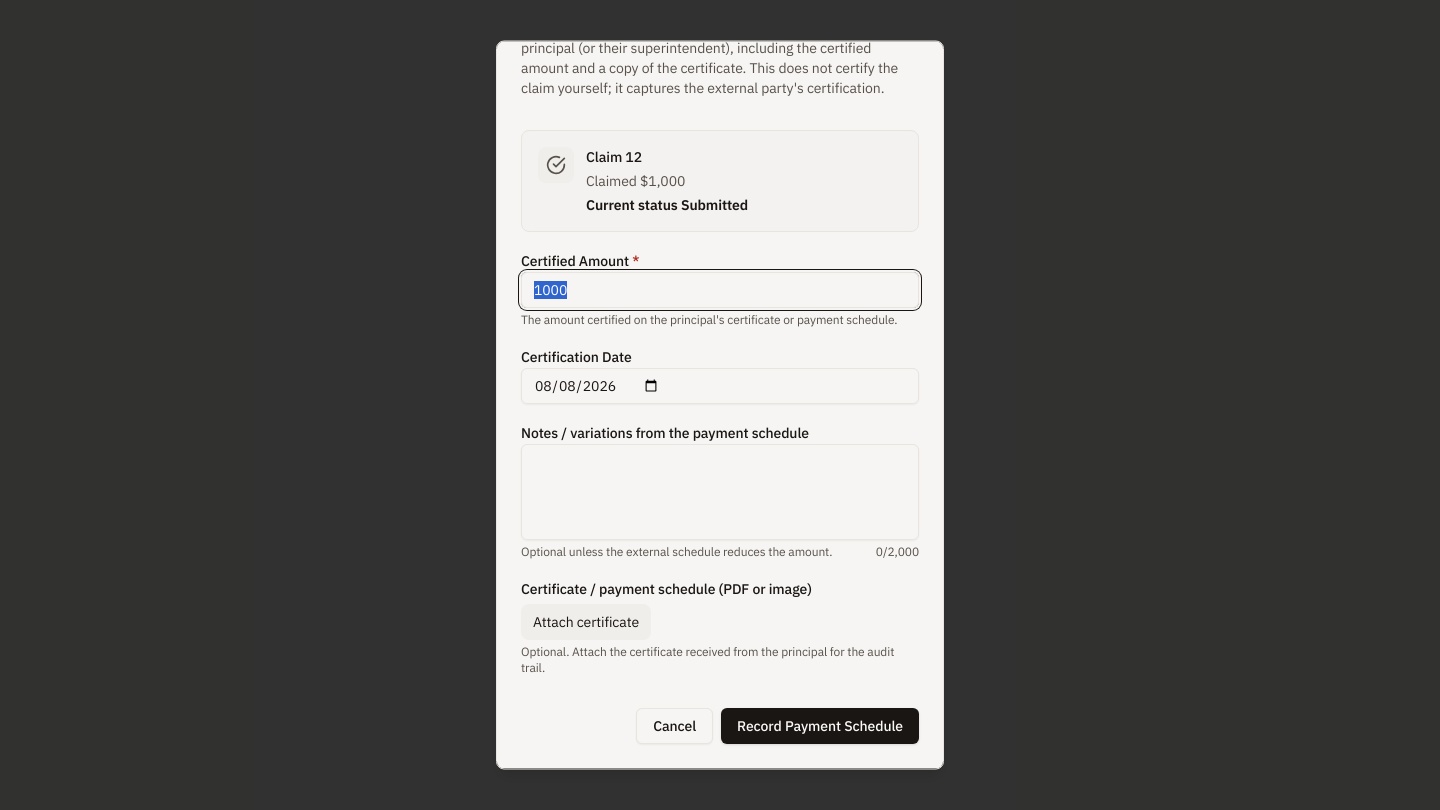
Test: RecordCertificationModal › keeps cancel disabled while certification is recording
(page scrolled)
Click the button "Record Payment Schedule": (820, 726) [721,708,919,744]
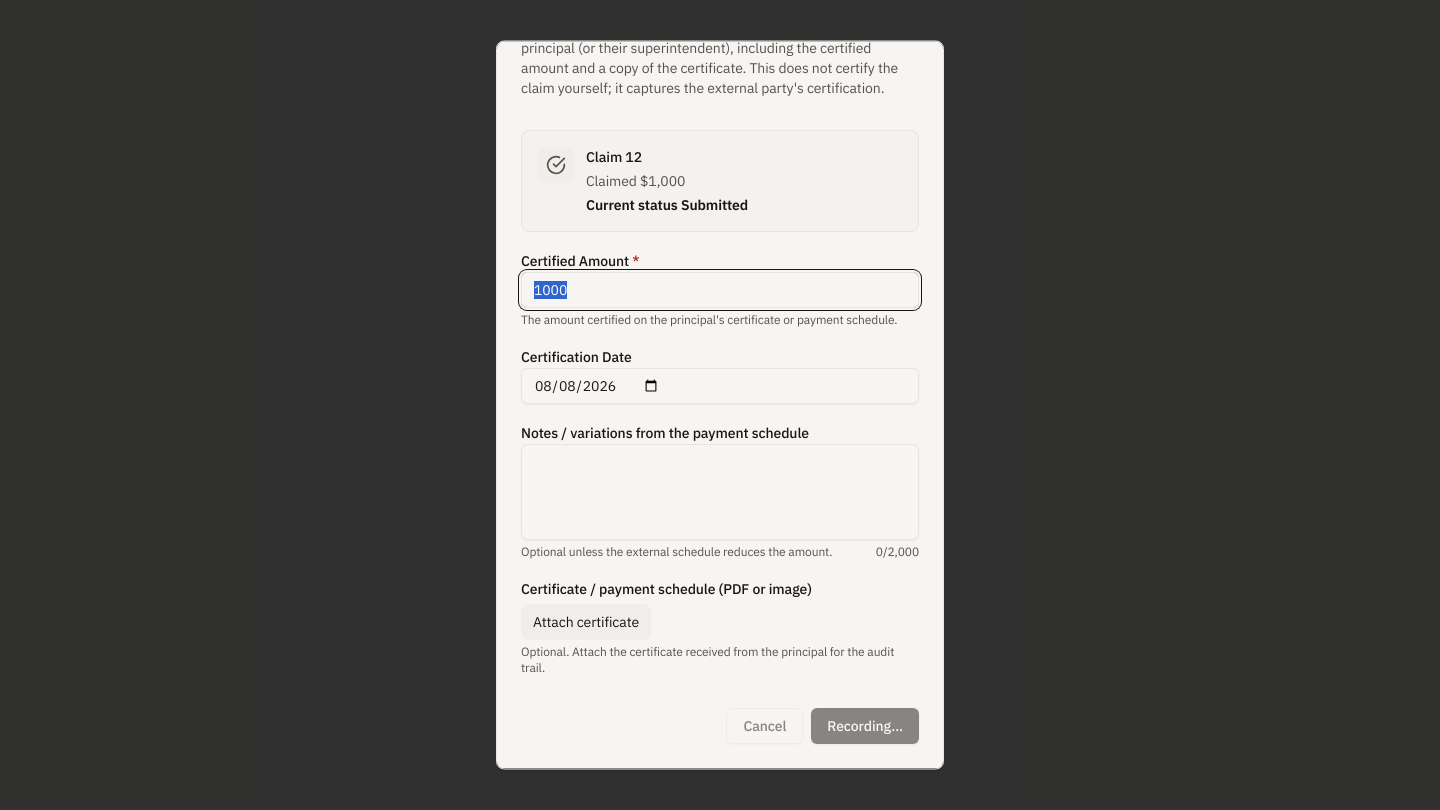
Expected: the button "Cancel" is disabled, [726,708,803,744]
